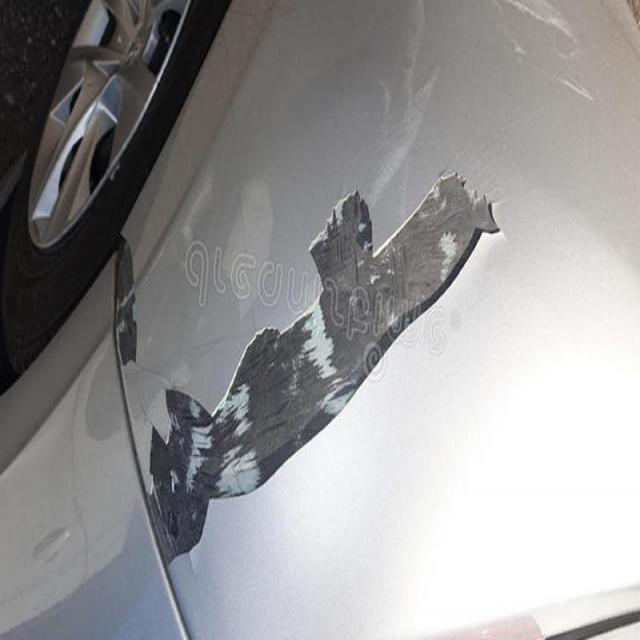scratch: (86, 65, 512, 561)
